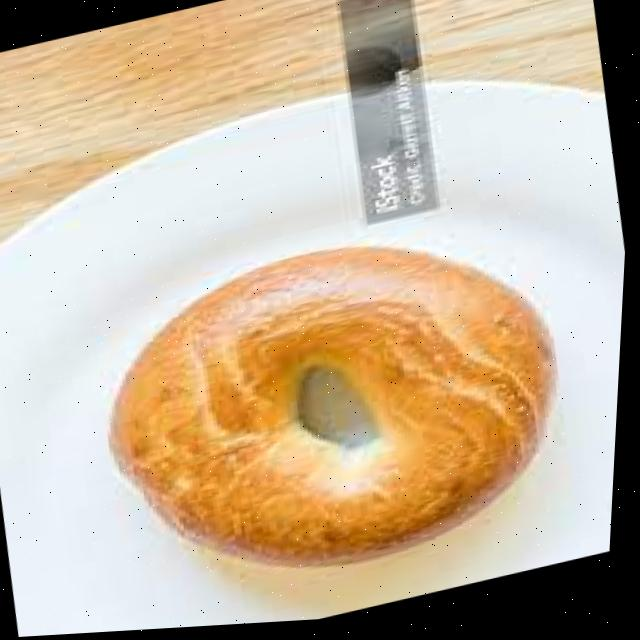Bagel: (114, 253, 553, 568)
